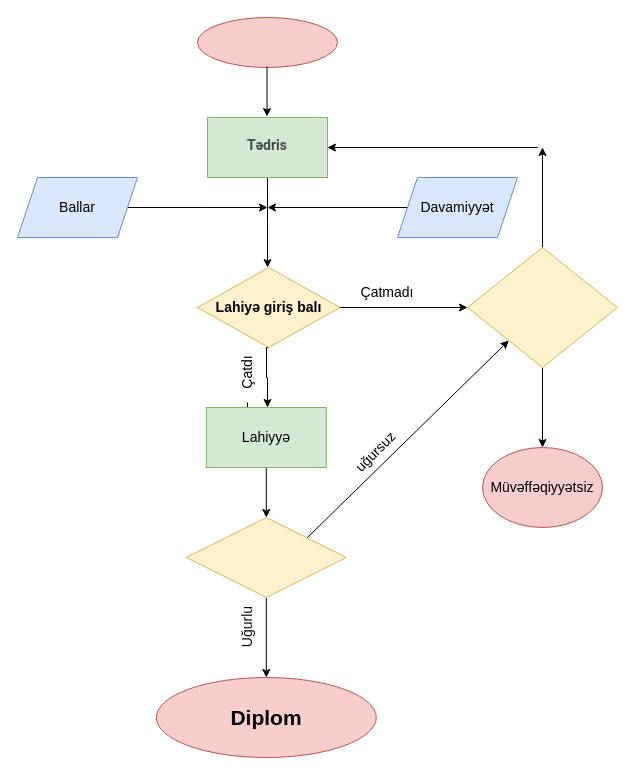
Some shapes in this 635 by 775 pixel diagram are drawn without their labels. Here are the shapes that lost their labels. From the top down, the box of each, then its label:
(196, 16, 338, 68): Tələbənin qeydiyyatı
(466, 246, 618, 368): Zəmanətli tədrisə uyğundurmu?
(185, 516, 346, 598): Lahiyyənin nəticəsi
